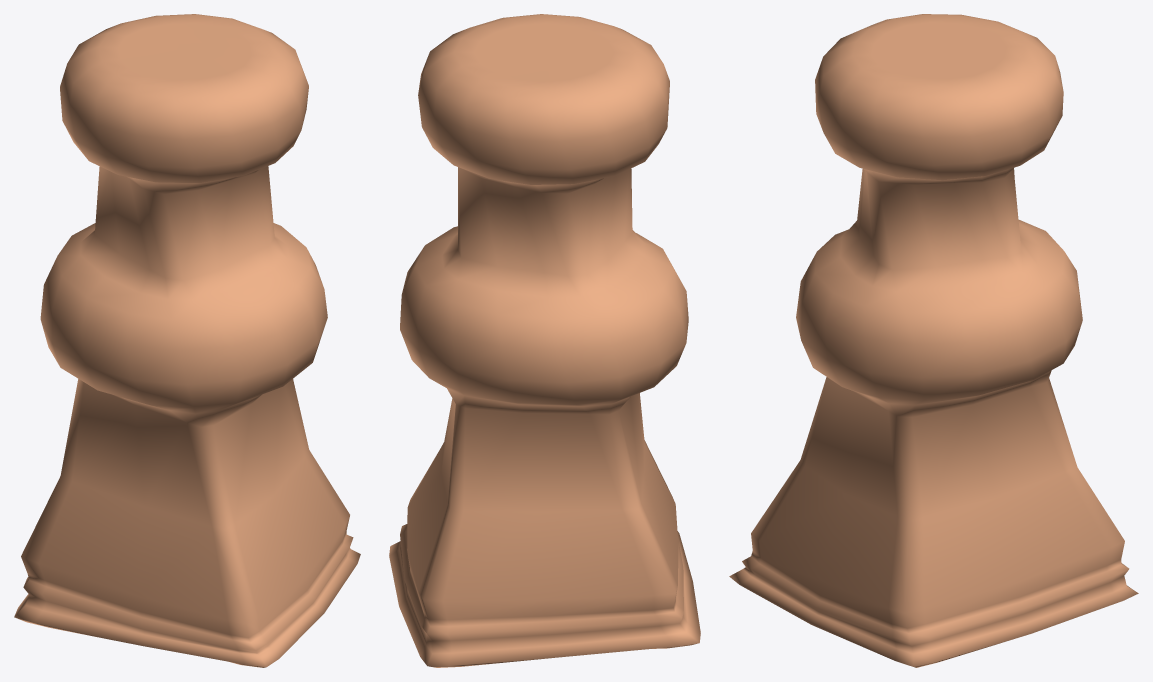
Rendered from Peon.fbx.
3 views of the same model, side by side, from view 1: azimuth 30°, elevation 25°; view 2: azimuth 150°, elevation 25°; view 3: azimuth 270°, elevation 25° (orthographic). The views are drawn at different scales.
Visible parts, largest first — view 1: Peon; view 2: Peon; view 3: Peon.
Boxes of the visible parts, x1=… form: Peon: x1=14, y1=14, x2=360, y2=667; Peon: x1=389, y1=14, x2=700, y2=667; Peon: x1=729, y1=14, x2=1138, y2=667.
Size of the model in its own units: 86.18 by 137 by 93.61.
